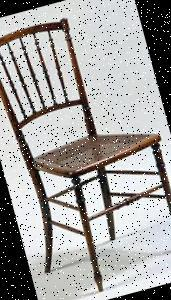Silla: (0, 2, 170, 299)
